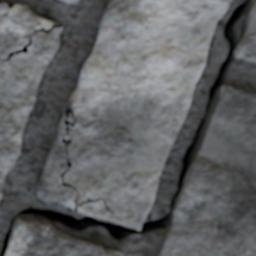brick: (64, 0, 232, 228), (158, 87, 255, 255), (0, 4, 61, 201), (6, 218, 122, 255), (37, 117, 76, 209), (236, 0, 255, 62), (0, 5, 7, 19), (60, 0, 79, 3)
crack: (0, 0, 253, 255), (6, 24, 62, 67), (0, 1, 15, 23)
